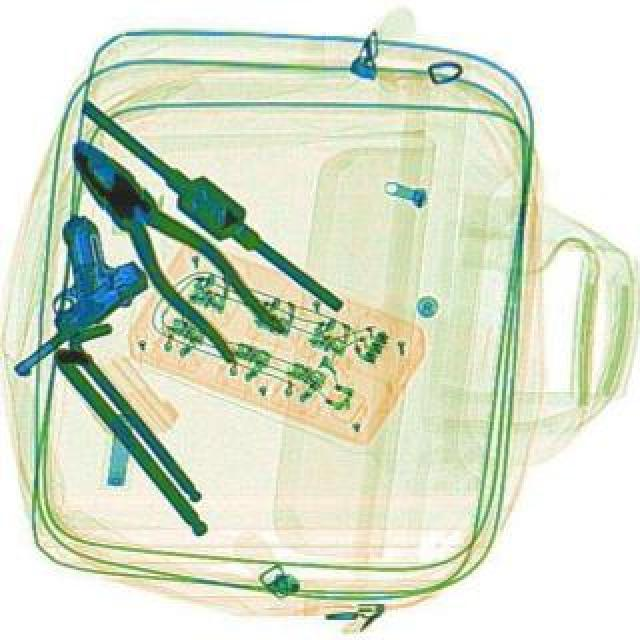gun: (4, 208, 164, 400)
wrench: (40, 122, 288, 372)
